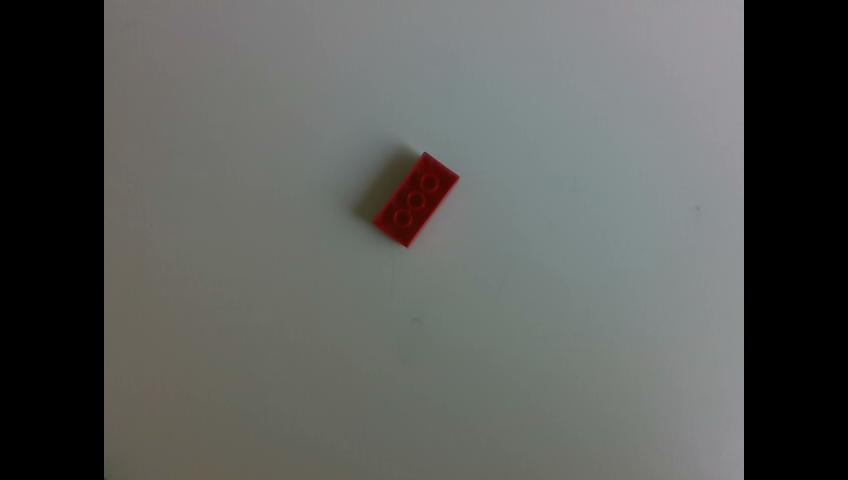4x2_red: (372, 150, 459, 246)
